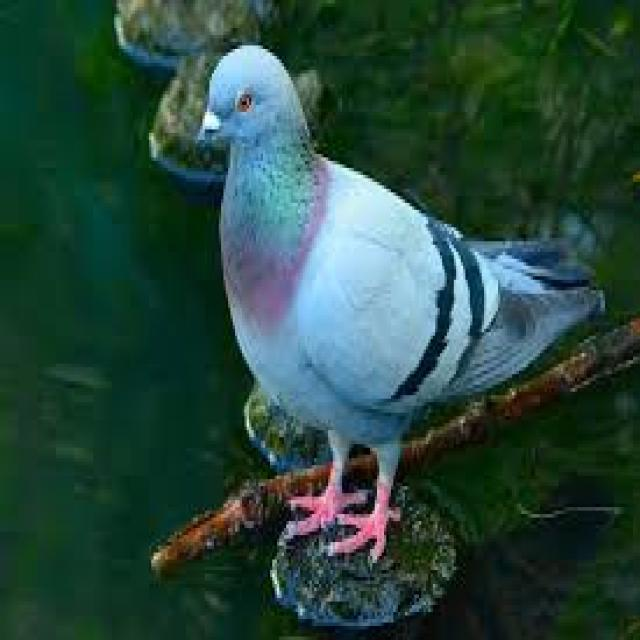pigeon: (193, 22, 594, 494)
